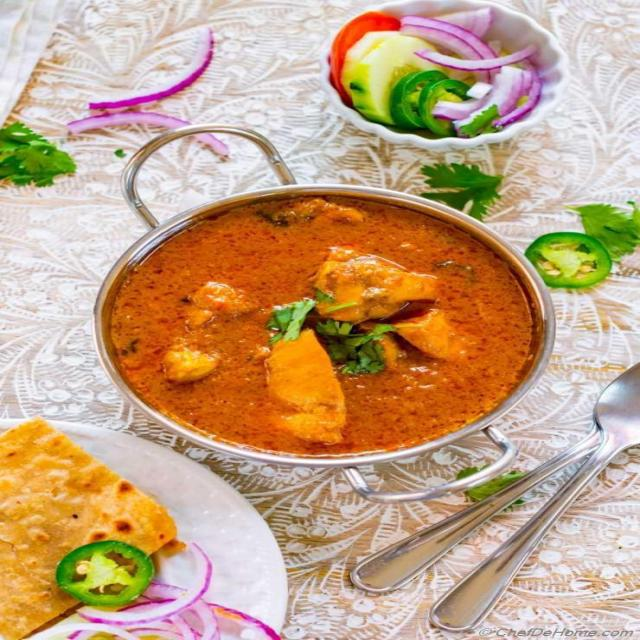chicken: (107, 190, 570, 472)
roti: (18, 424, 184, 640)
